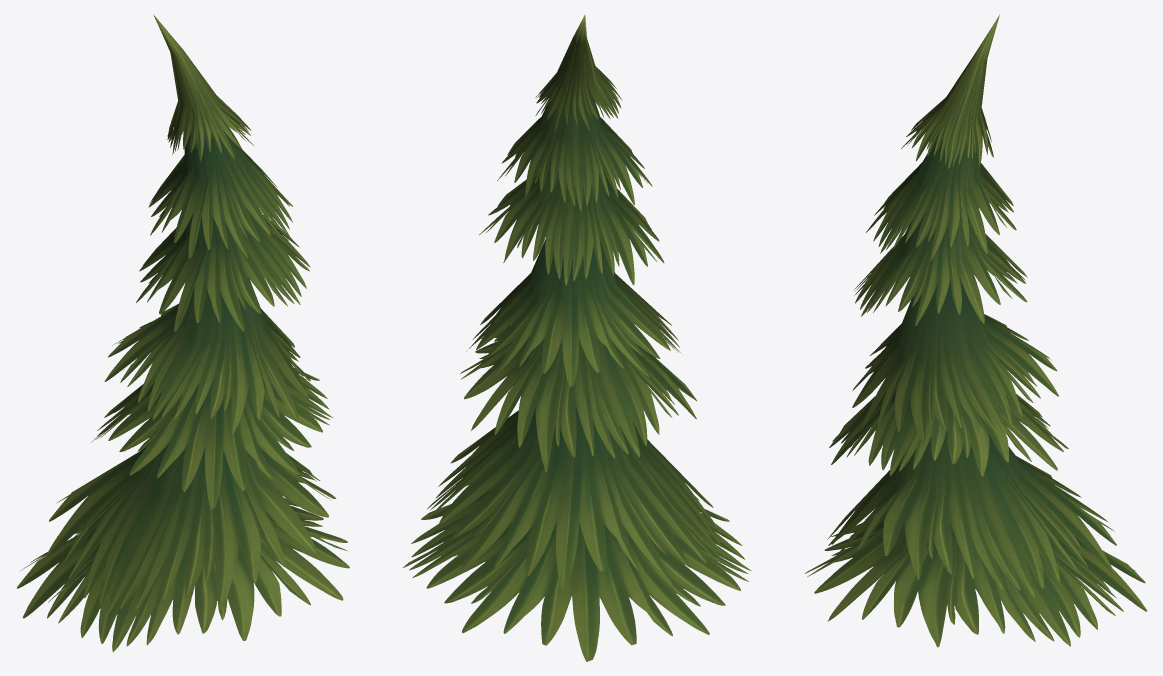
The model's file is Pine Leaves #2.fbx.
3 renders of one model, left to right at view 1: azimuth 30°, elevation 25°; view 2: azimuth 150°, elevation 25°; view 3: azimuth 270°, elevation 25°, orthographic.
Parts seen in each view (by area): view 1: Pine Leaves #2; view 2: Pine Leaves #2; view 3: Pine Leaves #2.
Part boxes in pixels (x1,y1,x2,y2): Pine Leaves #2: (17, 14, 349, 651); Pine Leaves #2: (403, 14, 751, 661); Pine Leaves #2: (805, 14, 1147, 647).
Size of the model in its own units: 241 by 437 by 243.
1 material, 1 textured.
